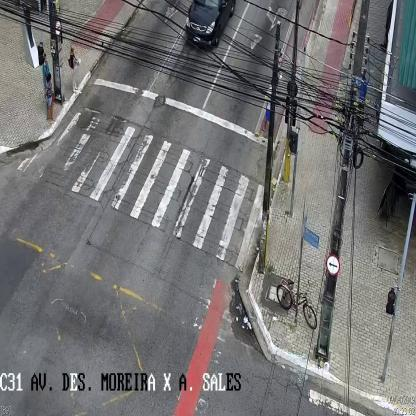bicycle: (277, 278, 317, 330)
car: (186, 0, 235, 49)
person: (68, 46, 80, 92), (45, 73, 55, 121)
